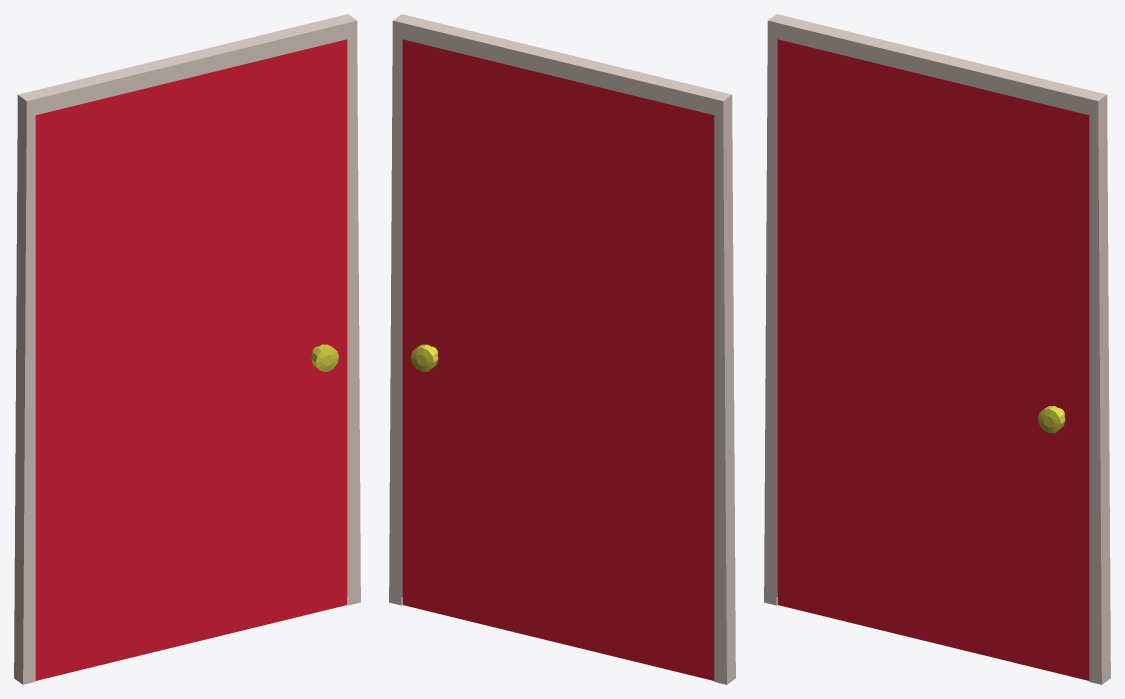
File: door.fbx
3 views of the same model, side by side, from view 1: azimuth 30°, elevation 25°; view 2: azimuth 150°, elevation 25°; view 3: azimuth 330°, elevation 25° (orthographic).
Parts seen in each view (by area): view 1: Door, Door_Frame; view 2: Door, Door_Frame; view 3: Door, Door_Frame.
Part boxes in pixels (x1=…): Door: x1=35, y1=39, x2=347, y2=680; Door_Frame: x1=14, y1=14, x2=360, y2=684; Door: x1=402, y1=39, x2=714, y2=680; Door_Frame: x1=389, y1=14, x2=735, y2=684; Door: x1=777, y1=39, x2=1089, y2=680; Door_Frame: x1=764, y1=14, x2=1110, y2=684.
Size of the model in its own units: 265 by 437 by 40.51.
